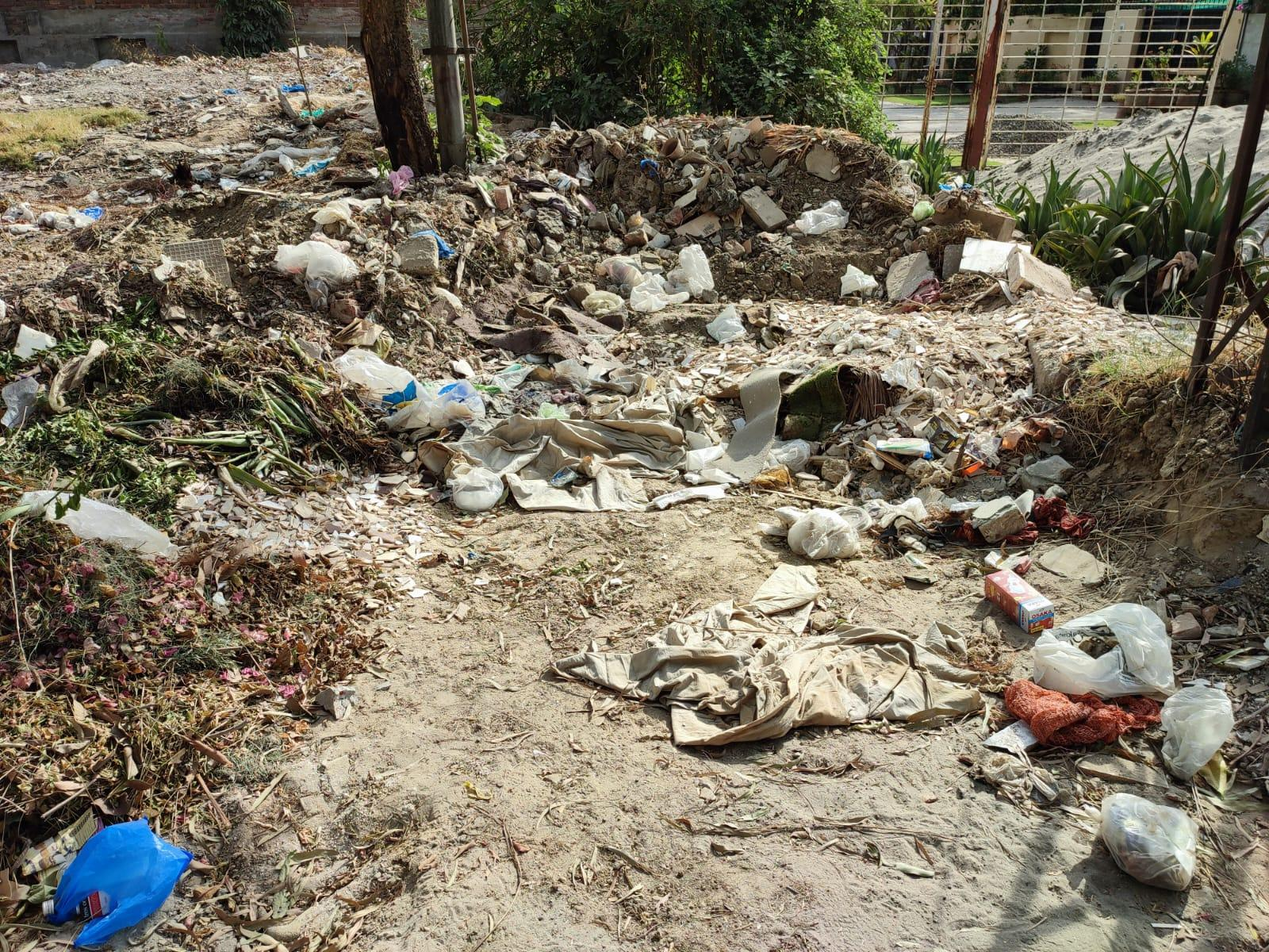garbage: (167, 113, 1037, 475), (800, 514, 1241, 918), (44, 772, 203, 952)
